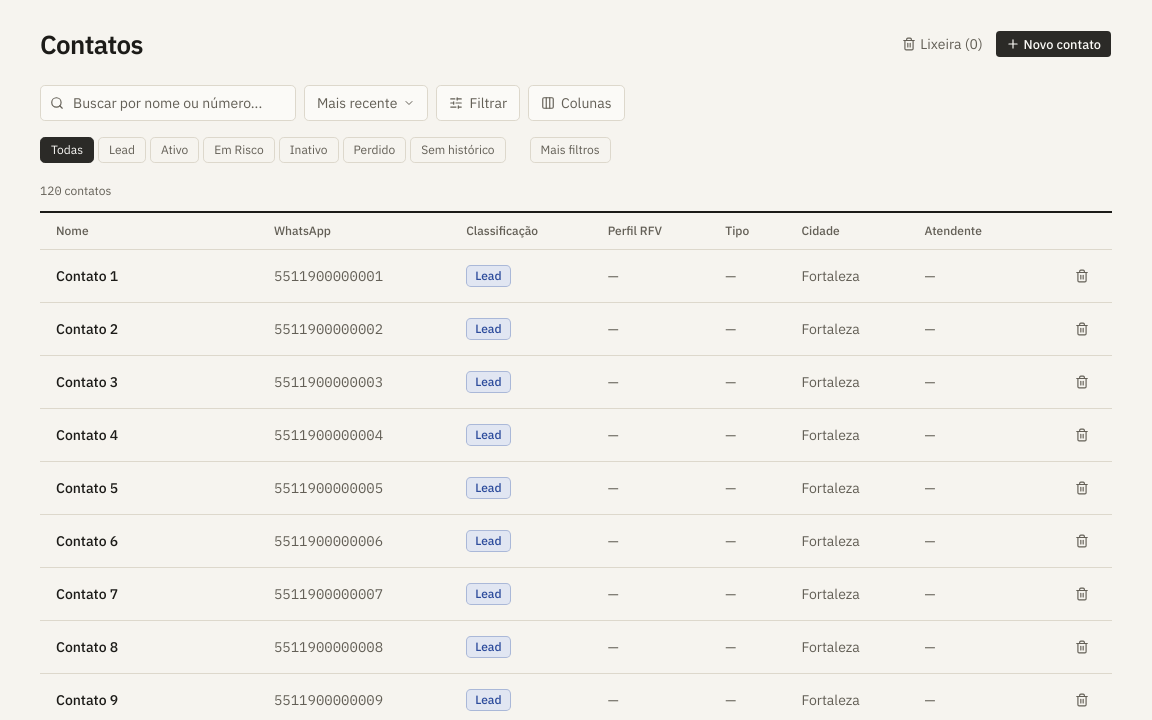
Scenario: B37-01 — filtro avançado na lista de contatos › CA-B37-13: should marcar a condição sem valor como incompleta e não filtrar por ela
Click the button "Filtrar": {"x": 478, "y": 102} top-left (436, 84), bottom-right (520, 120)
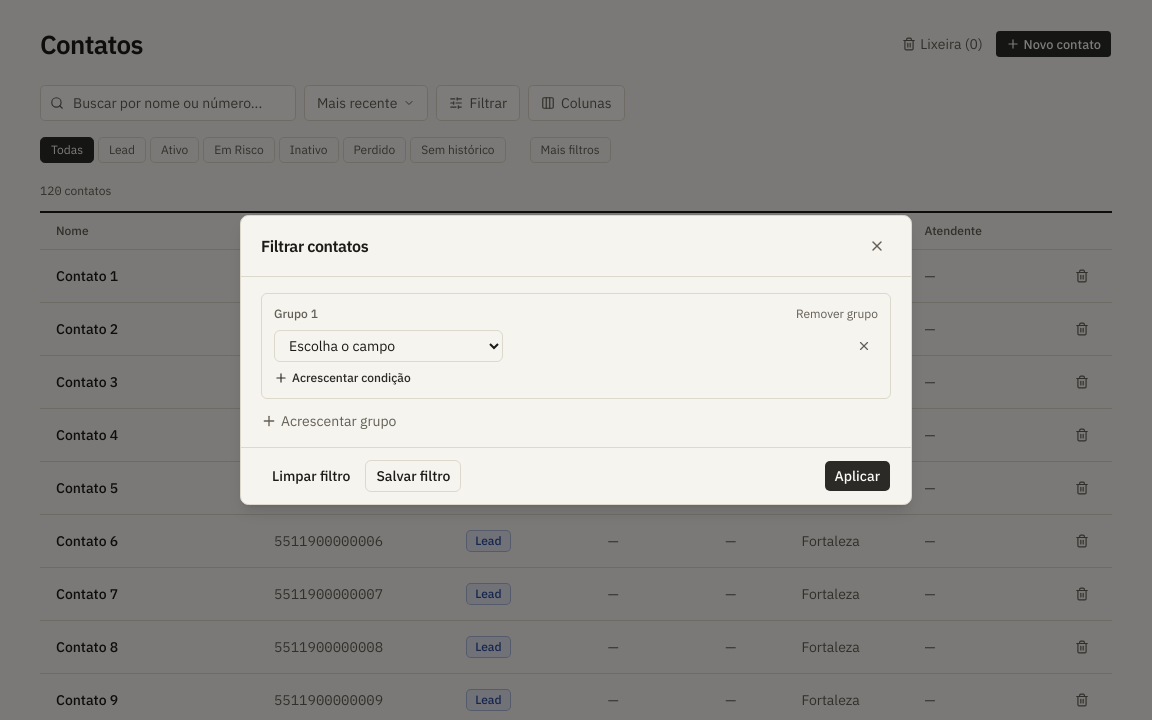
Select "Cidade" in the dropdown named "Campo": {"x": 388, "y": 346} top-left (274, 330), bottom-right (503, 362)
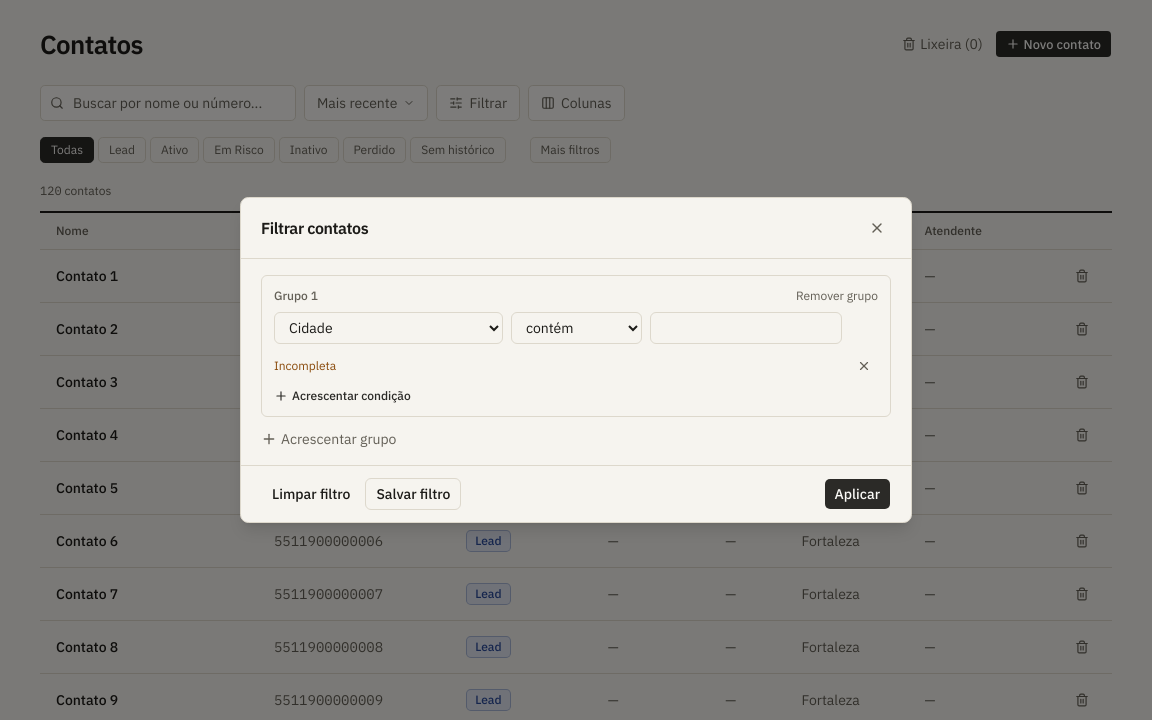
Expected: the text "Incompleta" is shown, top-left (274, 358), bottom-right (336, 374)
Click the button "Acrescentar condição": {"x": 342, "y": 396} top-left (274, 388), bottom-right (411, 404)
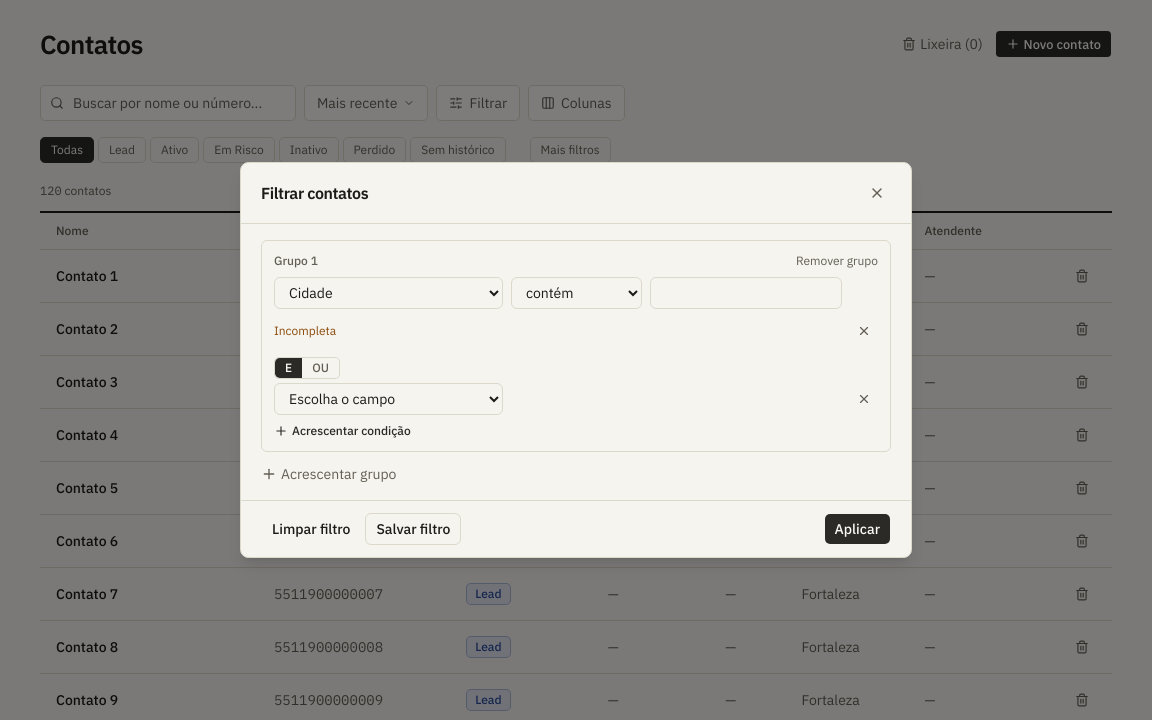
Select "Nome" in the 2nd dropdown named "Campo": {"x": 388, "y": 399} top-left (274, 383), bottom-right (503, 415)
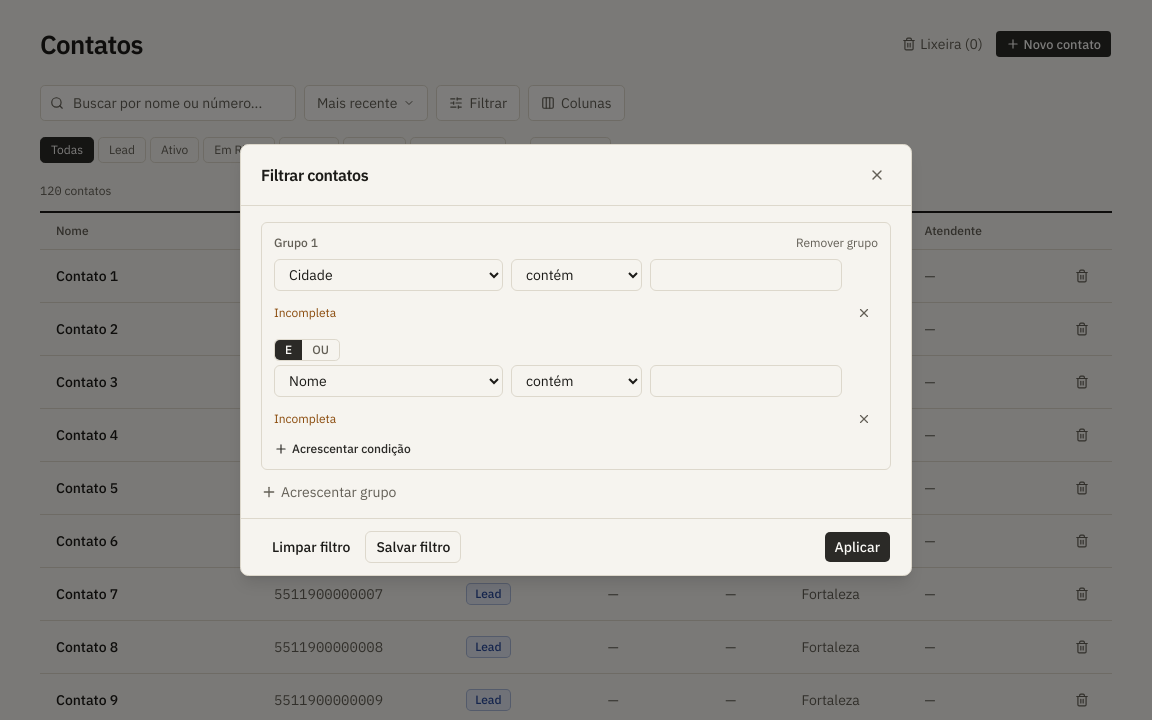
In the 2nd field named "Valor": {"x": 746, "y": 381} top-left (650, 365), bottom-right (842, 397), type "Ana"
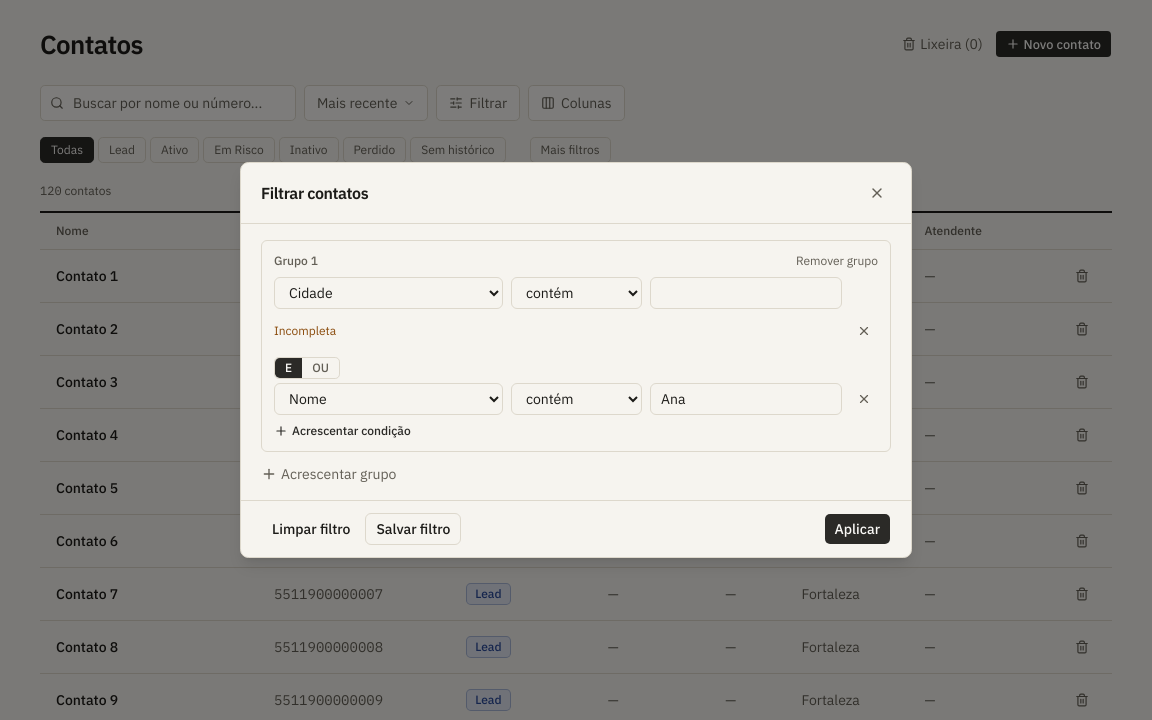
Click the button "Aplicar": {"x": 857, "y": 529} top-left (824, 513), bottom-right (891, 545)
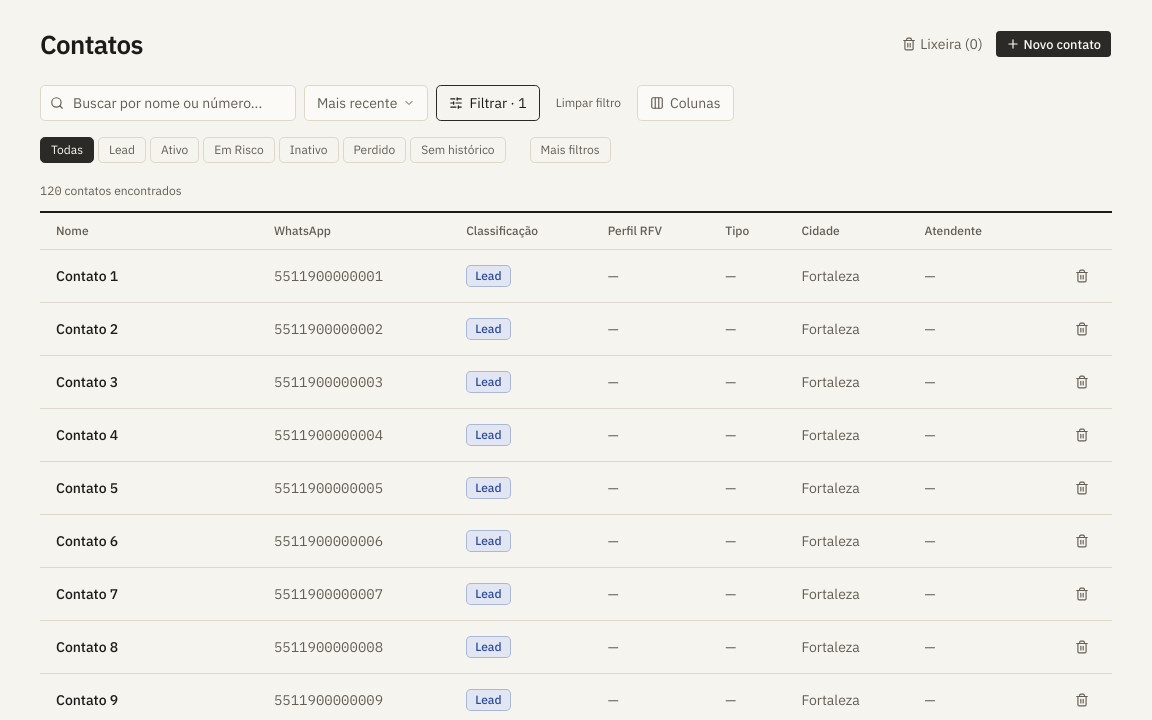
Expected: the button "Filtrar · 1" is shown, top-left (436, 84), bottom-right (540, 120)
